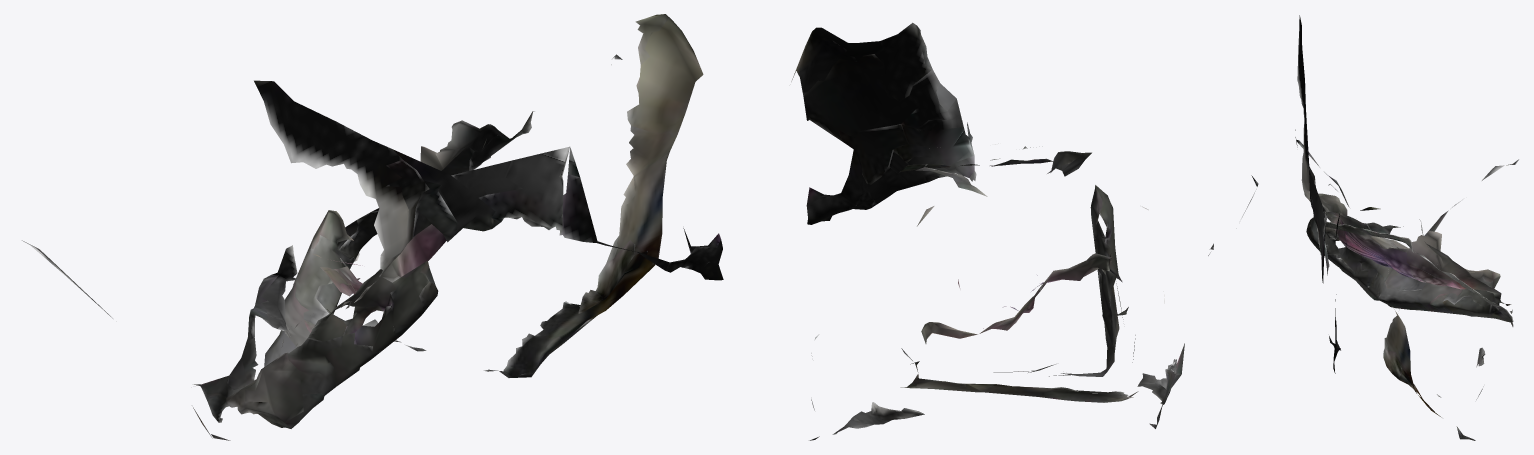
File: hall.glb
The picture shows the model from 3 angles, left to right: view 1: azimuth 30°, elevation 25°; view 2: azimuth 150°, elevation 25°; view 3: azimuth 270°, elevation 25°; orthographic projection. The views are drawn at different scales.
Size of the model in its own units: 1.26 by 1.06 by 0.7087.
1 material, 1 textured.
